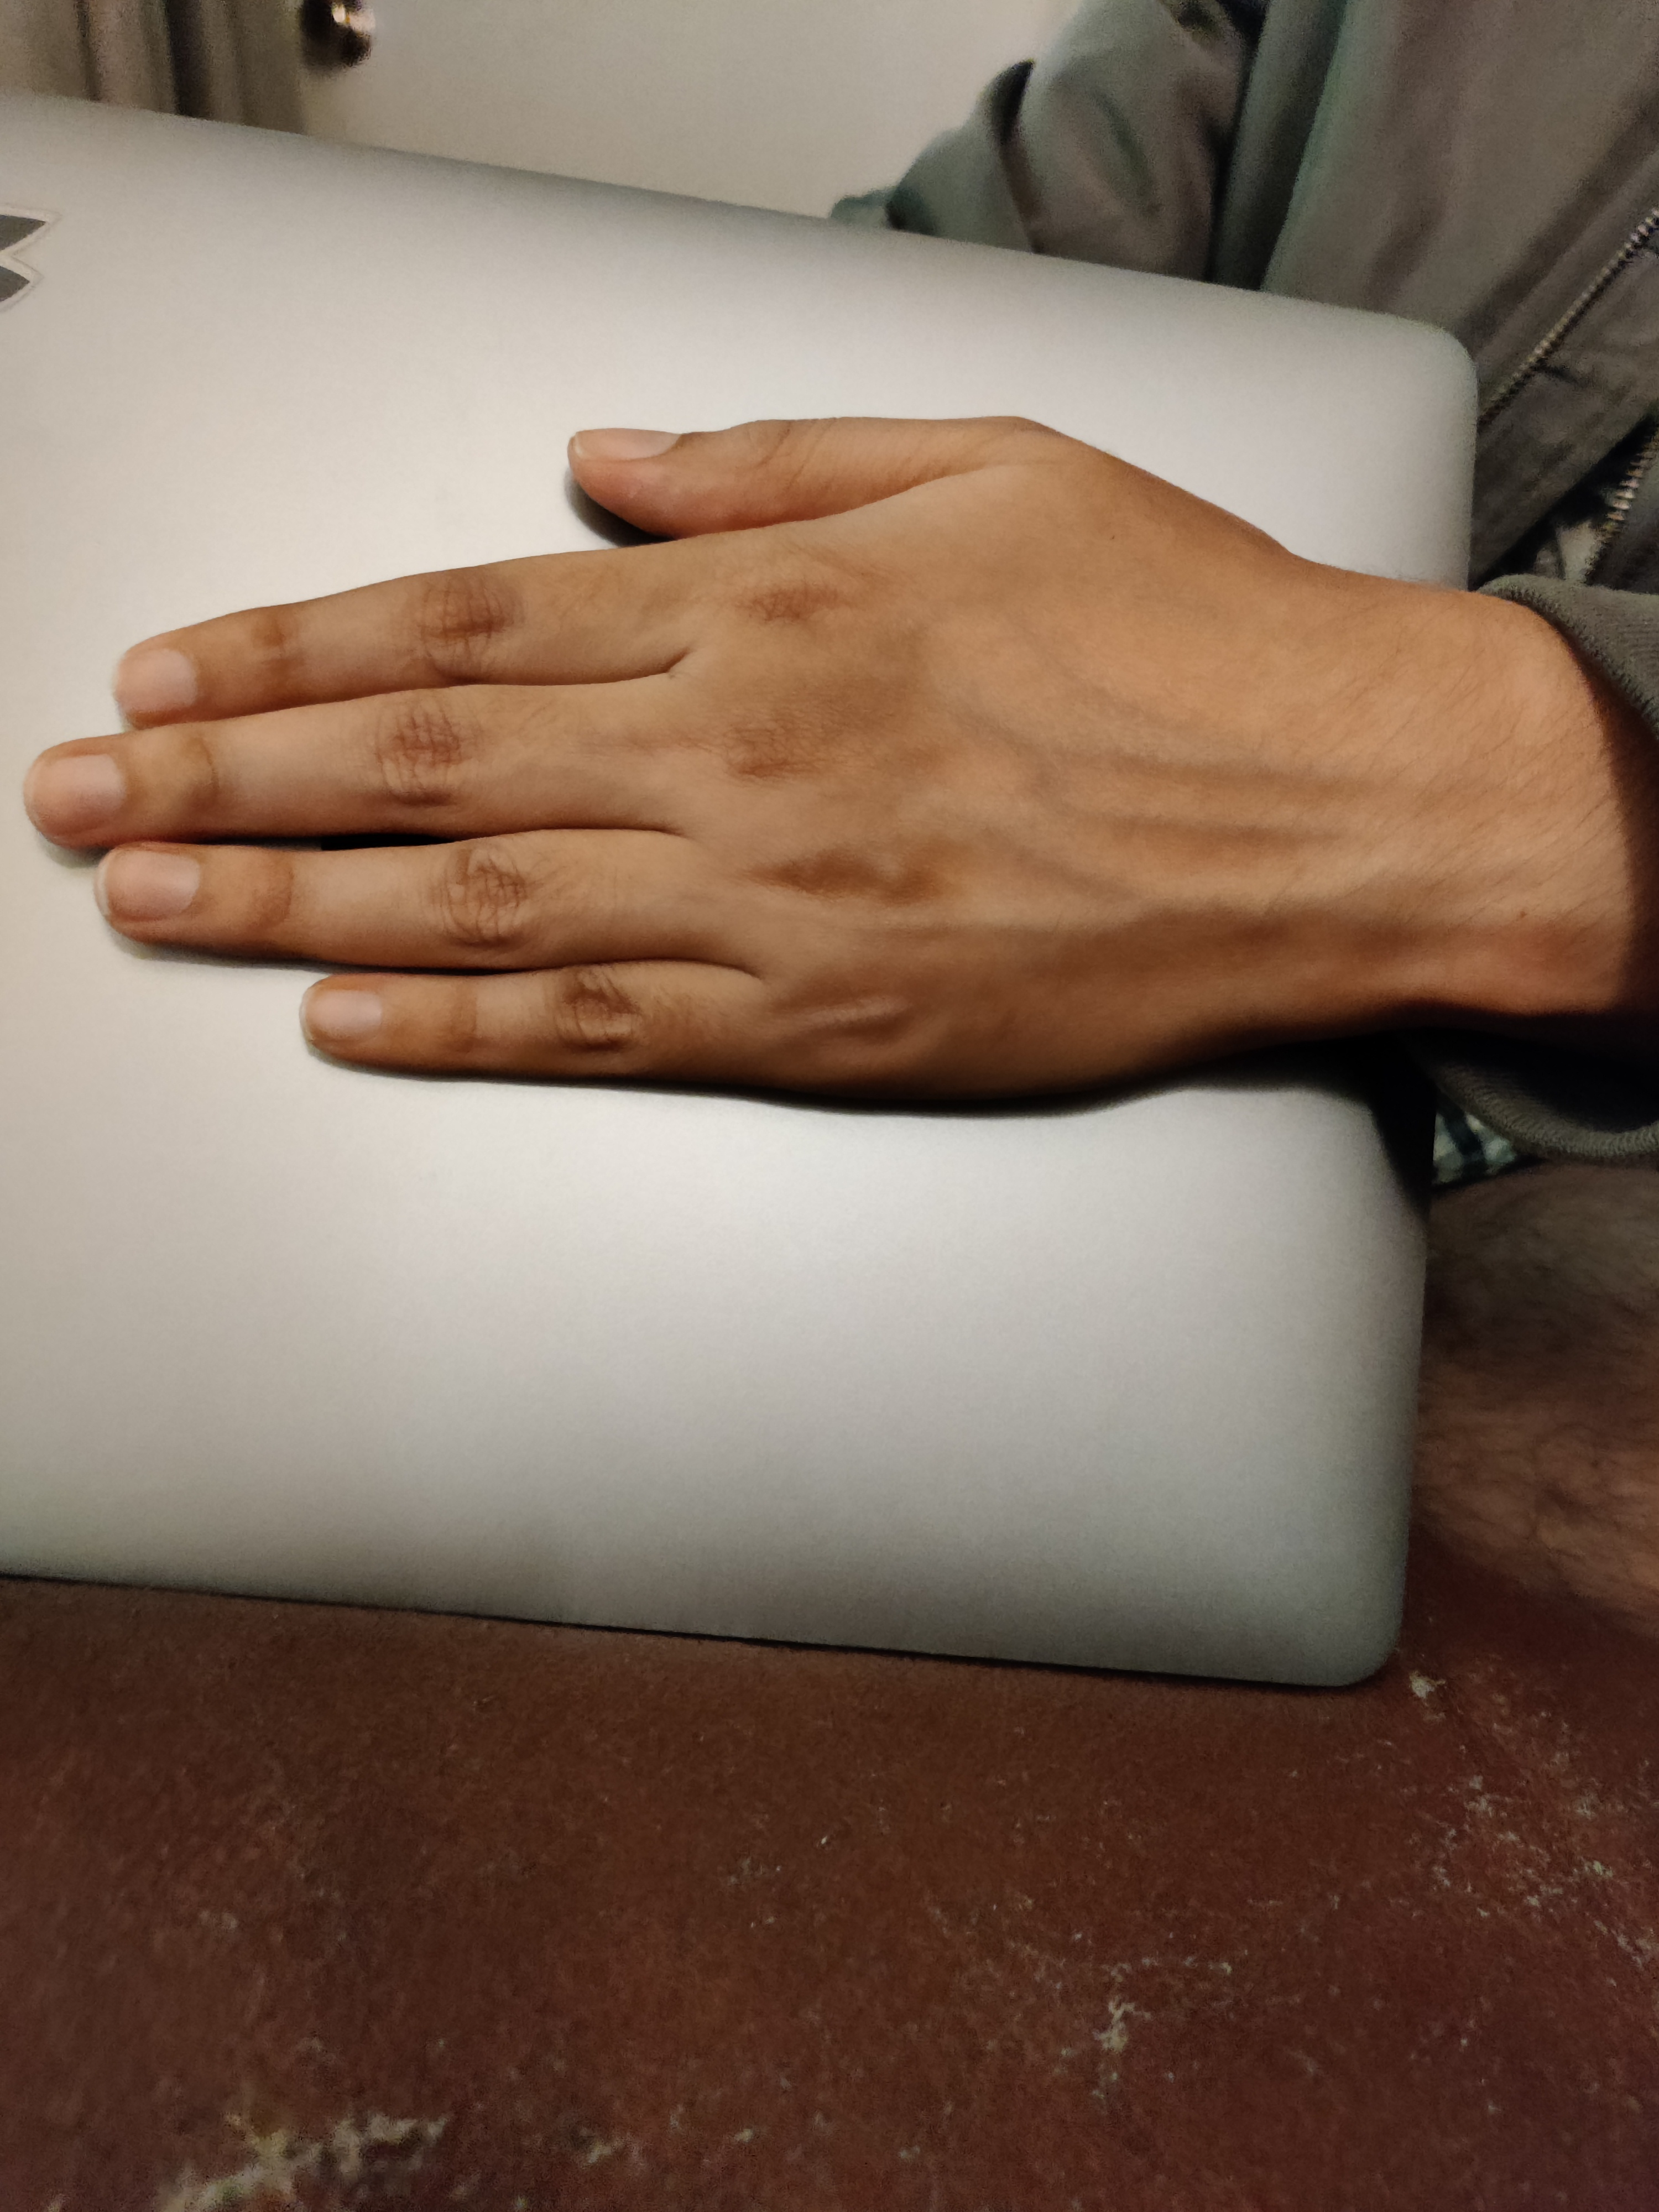right: (17, 336, 1603, 1345)
